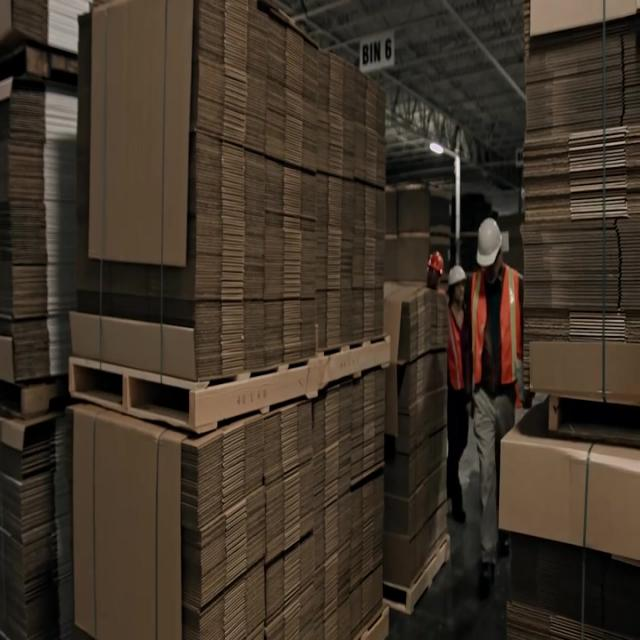Reflective-Jacket: (468, 265, 528, 413), (444, 305, 477, 411)
Safety-Helmet: (472, 209, 507, 273), (424, 242, 449, 282), (446, 260, 470, 295)
